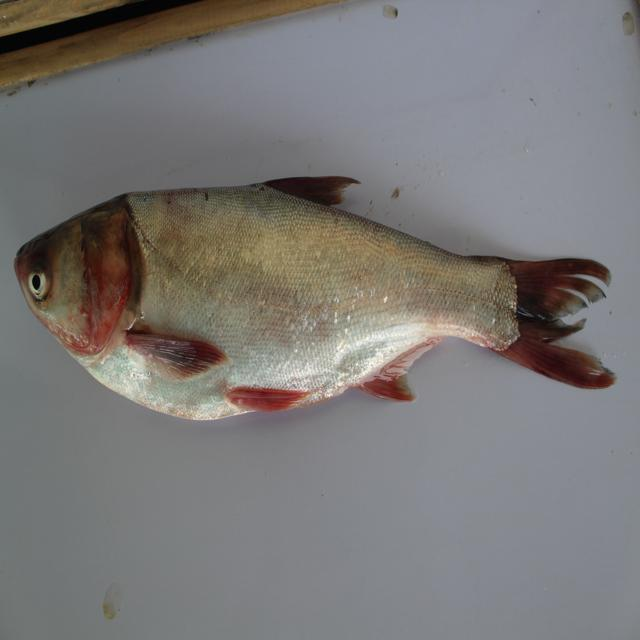SilverCarp: (11, 191, 621, 442)
